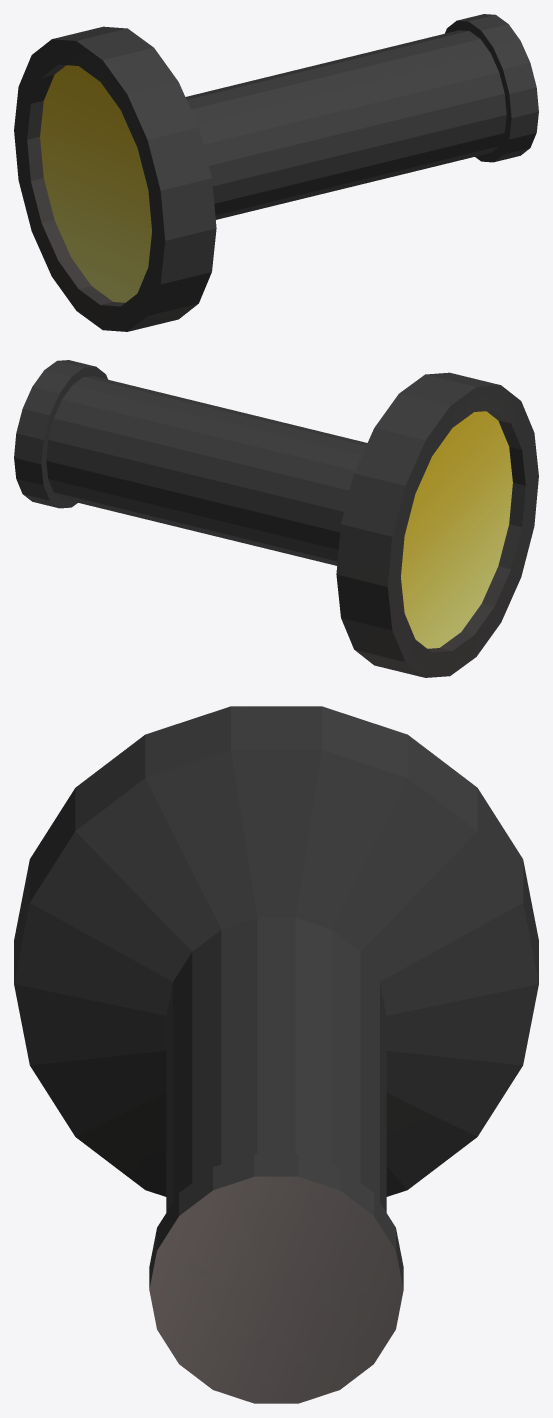
The model's file is SM_Fiashlight_Black.fbx.
3 views of the same model, one above another, from view 1: azimuth 30°, elevation 25°; view 2: azimuth 150°, elevation 25°; view 3: azimuth 270°, elevation 25° (orthographic). The views are drawn at different scales.
Visible parts, largest first — view 1: Fiashlight_Black; view 2: Fiashlight_Black; view 3: Fiashlight_Black.
Part boxes in pixels (bbox=[...]): Fiashlight_Black: bbox=[14, 14, 538, 331]; Fiashlight_Black: bbox=[14, 360, 538, 677]; Fiashlight_Black: bbox=[14, 706, 538, 1403].
Bounding box in the file's own units: 0.4813 × 0.3008 × 0.3054.
